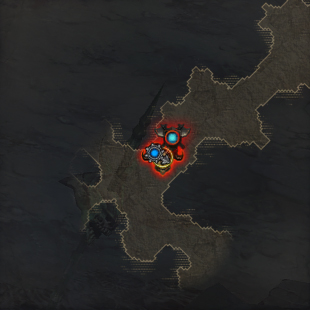Guardian: (142, 141, 183, 175)
